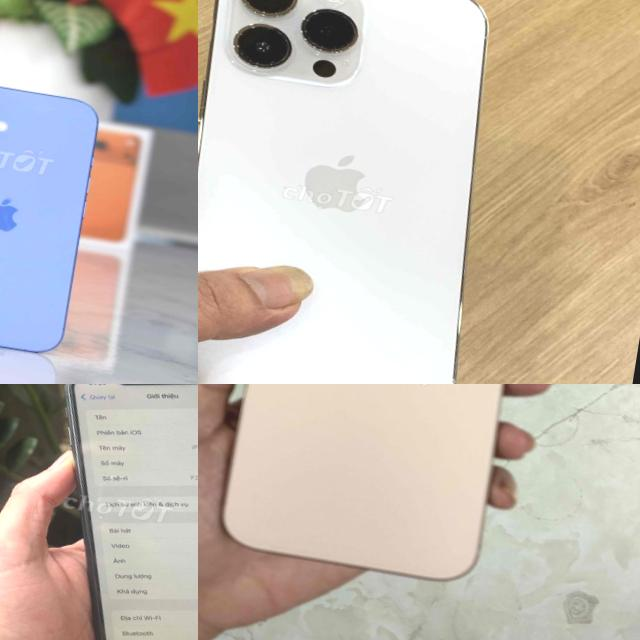gen_14: (198, 0, 523, 384)
gen_16: (223, 384, 504, 579), (0, 63, 122, 376)
gen_x_xs: (11, 384, 198, 640)
